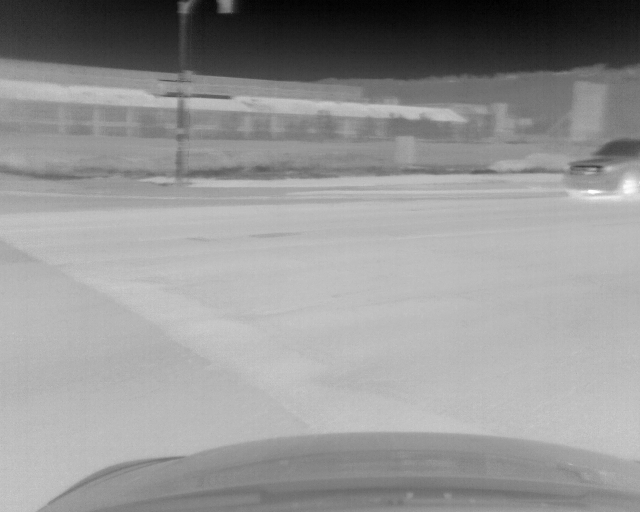car: (563, 138, 640, 201)
